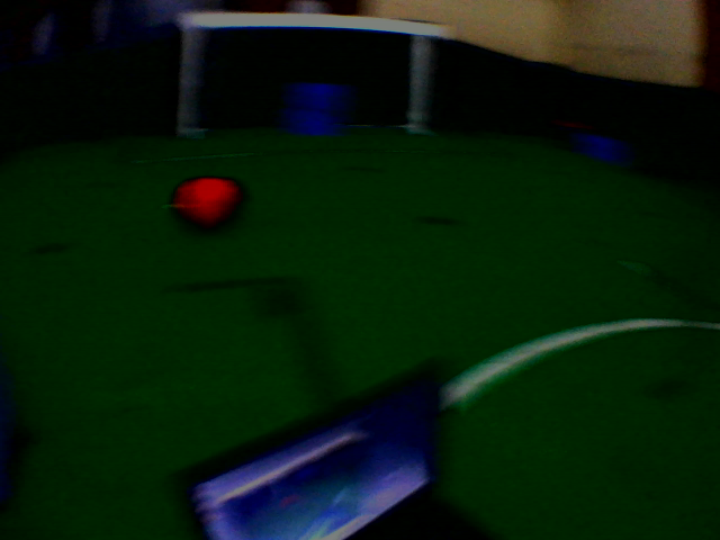bola: (169, 167, 251, 235)
